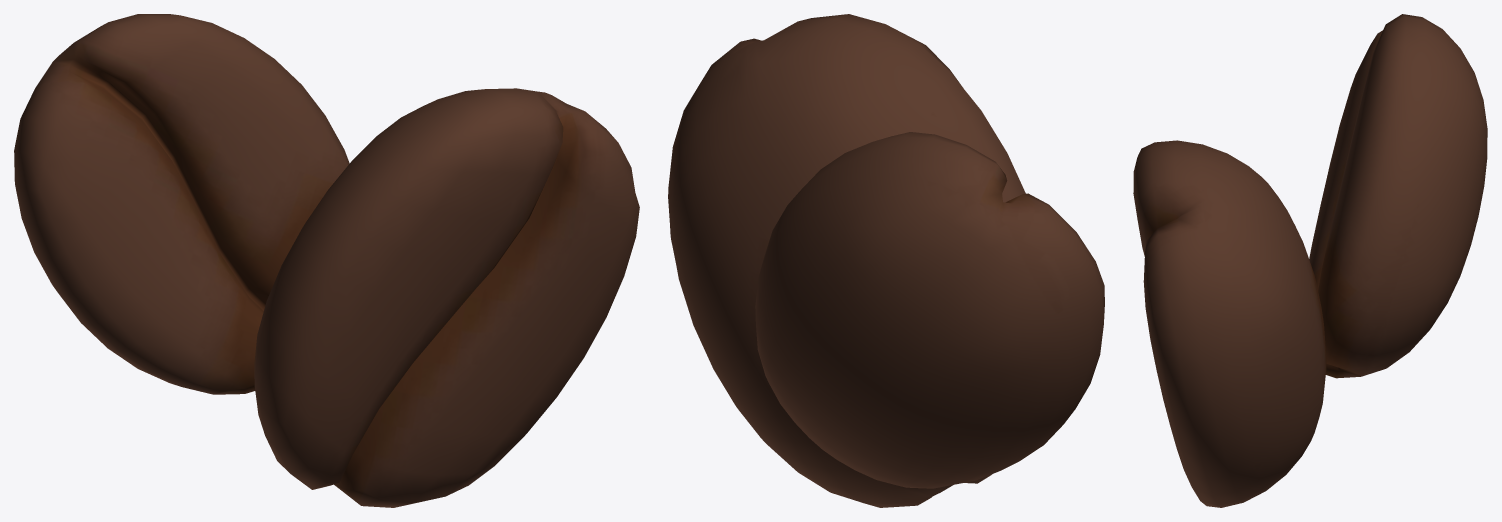
Rendered from coffee-A.glb.
3 views of the same model, side by side, from view 1: azimuth 30°, elevation 25°; view 2: azimuth 150°, elevation 25°; view 3: azimuth 270°, elevation 25° (orthographic). The views are drawn at different scales.
Visible parts, largest first — view 1: coffeebeans; view 2: coffeebeans; view 3: coffeebeans.
Boxes of the visible parts, x1,y1,x2,y2 form: coffeebeans: (14, 14, 639, 507); coffeebeans: (668, 14, 1104, 507); coffeebeans: (1133, 14, 1487, 507).
Bounding box in the file's own units: 0.3095 × 0.2685 × 0.2156.
1 material, 1 textured.
